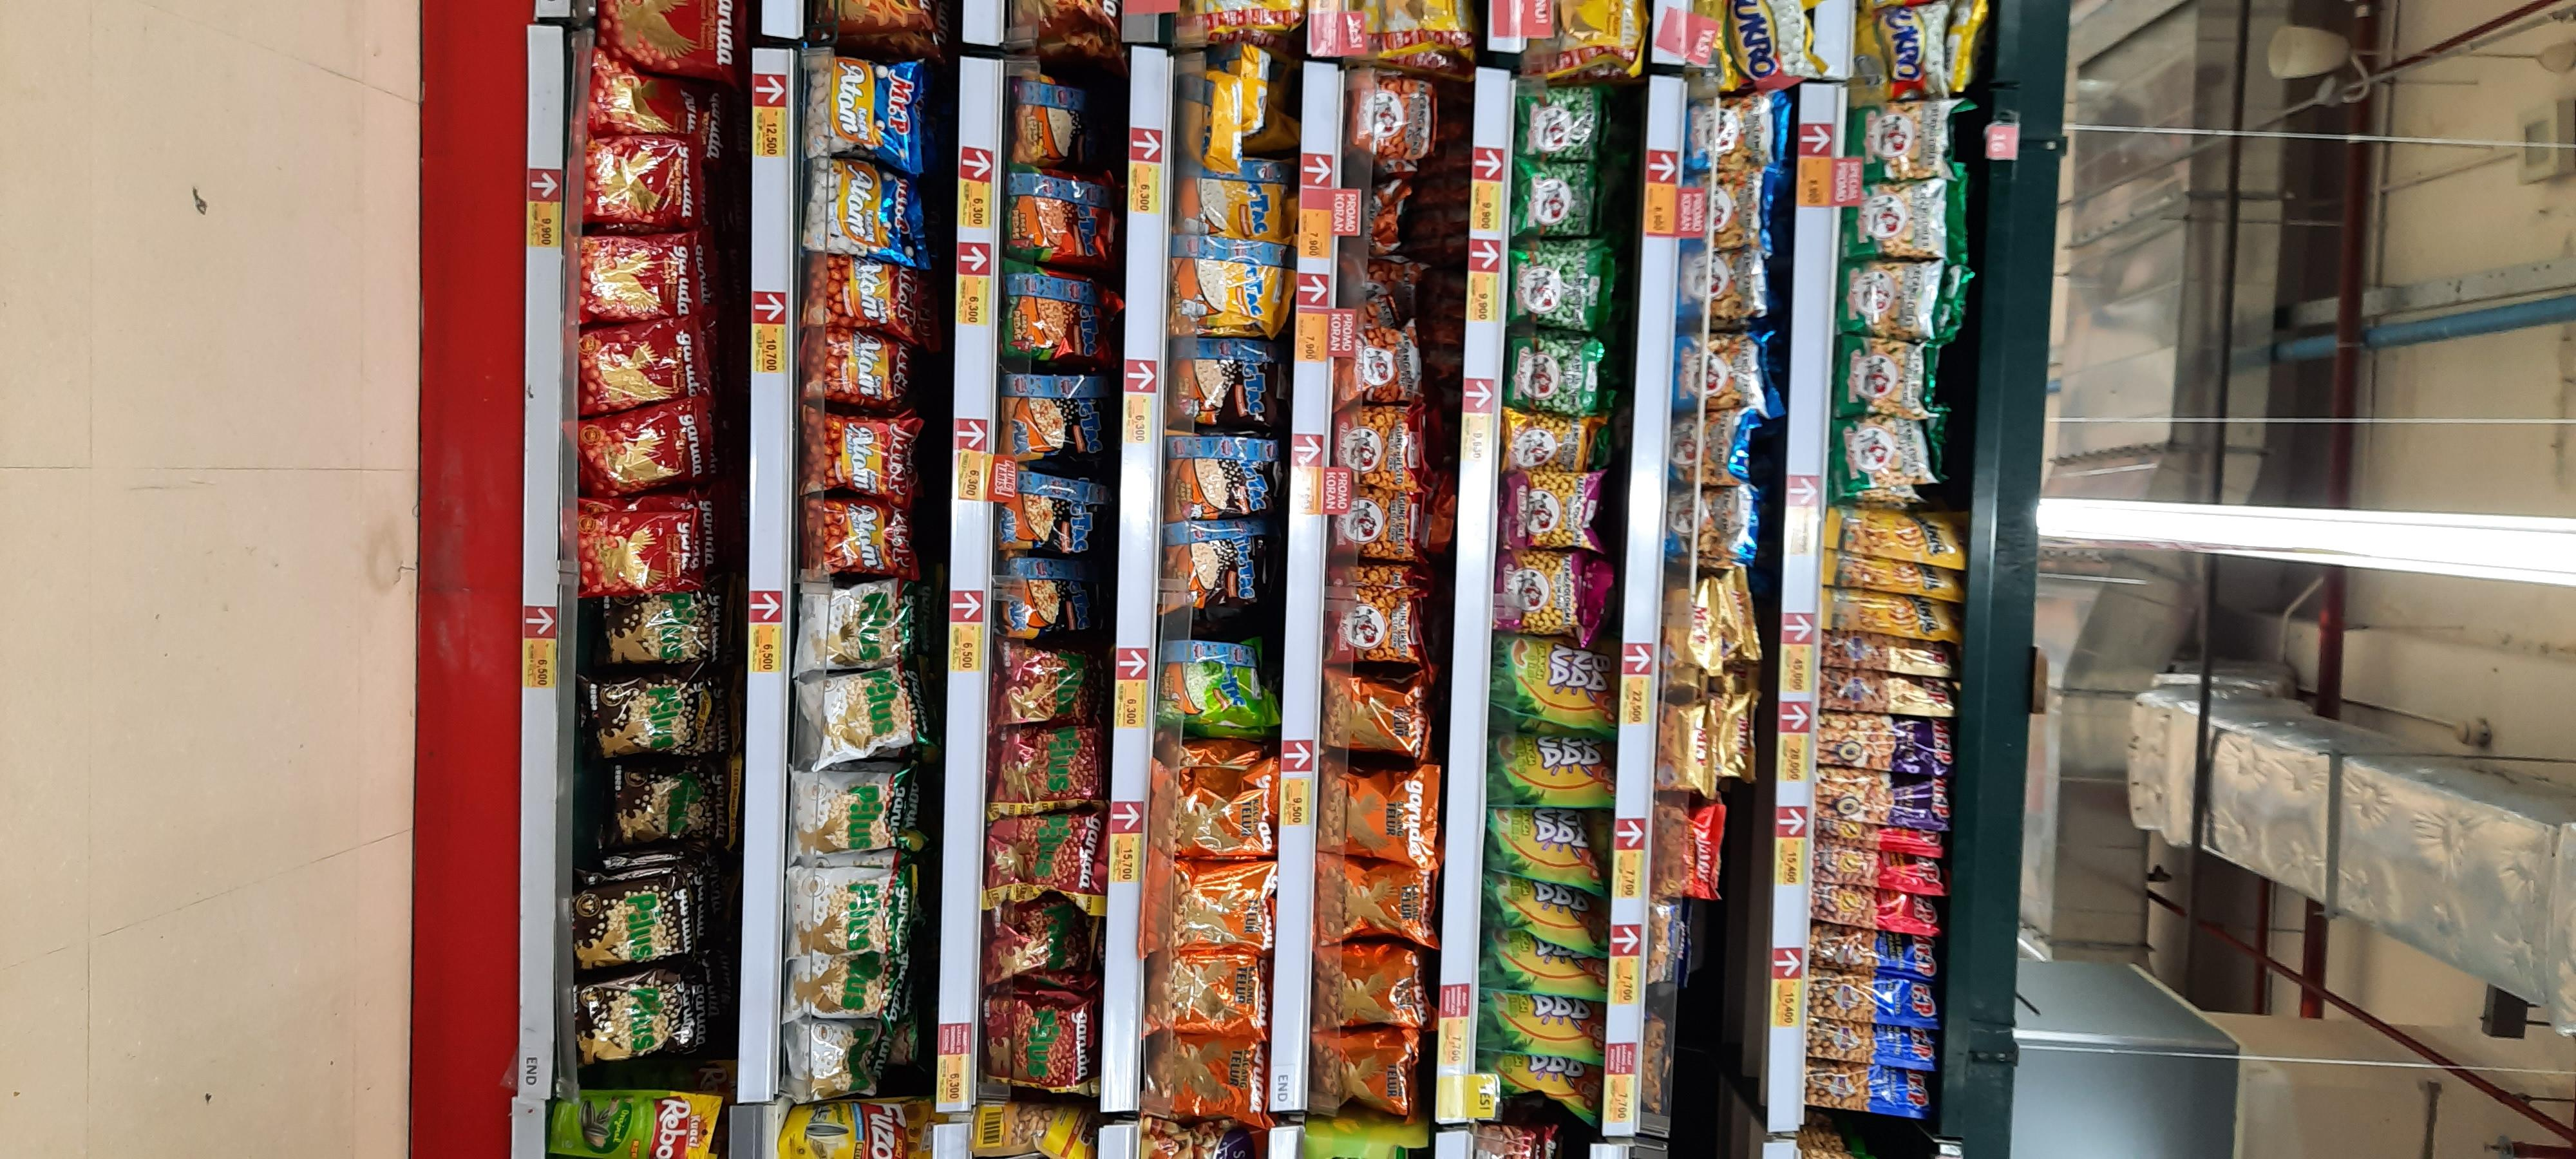90101111302100: (570, 492, 721, 598), (573, 404, 721, 502), (577, 135, 705, 238), (582, 320, 713, 412), (573, 240, 705, 315)
90101111701100: (1138, 1033, 1265, 1129), (1145, 765, 1272, 860), (1145, 859, 1272, 954), (1143, 949, 1270, 1024)
90101111702100: (1313, 763, 1447, 867), (1311, 867, 1446, 951), (1311, 944, 1434, 1033), (1299, 1034, 1416, 1121), (1324, 667, 1428, 757)
90101151201100: (977, 1001, 1102, 1097), (992, 726, 1115, 811), (987, 816, 1111, 900), (991, 650, 1096, 726)
90101151402100: (563, 965, 713, 1075), (565, 870, 705, 978), (588, 772, 733, 849), (582, 673, 726, 750), (583, 594, 728, 670)
90101151604100: (792, 670, 925, 765), (790, 860, 920, 957), (787, 767, 920, 855), (795, 581, 918, 668), (789, 1018, 912, 1105), (785, 955, 910, 1019)
KacangDuaKelinciAyamBawang: (1493, 558, 1605, 657), (1503, 465, 1617, 555)
KacangDuaKelinciBawang: (1837, 95, 1960, 176), (1840, 182, 1962, 263), (1838, 254, 1962, 333), (1837, 340, 1945, 424), (1833, 424, 1937, 489)
KacangDuaKelinciBbq: (1503, 412, 1608, 466)
KacangDuaKelinciMixNut: (1674, 328, 1778, 414), (1661, 486, 1761, 565), (1679, 98, 1789, 166), (1666, 250, 1774, 317), (1674, 174, 1784, 240), (1671, 419, 1755, 486)
KacangDuaKelinciPedas: (1319, 584, 1437, 668), (1326, 322, 1428, 404), (1347, 79, 1449, 161), (1326, 405, 1433, 474), (1326, 489, 1419, 555)
KacangDuaKelinciPolong: (1510, 241, 1608, 325), (1510, 85, 1610, 161), (1508, 163, 1607, 238), (1508, 332, 1608, 405)
Mr.pKacangAtomPedas: (798, 414, 918, 502), (800, 251, 925, 330), (800, 332, 918, 410), (797, 502, 918, 575)
Mr.pKacangOriginal: (802, 44, 928, 159), (797, 156, 925, 253)
TicTacBbq: (1165, 433, 1283, 527), (1168, 343, 1286, 437), (1163, 529, 1267, 616)
TicTacMix: (996, 543, 1094, 635), (1017, 376, 1114, 468), (992, 465, 1091, 555)
TicTacOriginal: (1166, 240, 1291, 340), (1173, 166, 1295, 238)
TicTacPedas: (1000, 259, 1112, 374), (1010, 163, 1119, 268)
TicTacSeaWeed: (1153, 645, 1285, 729)
